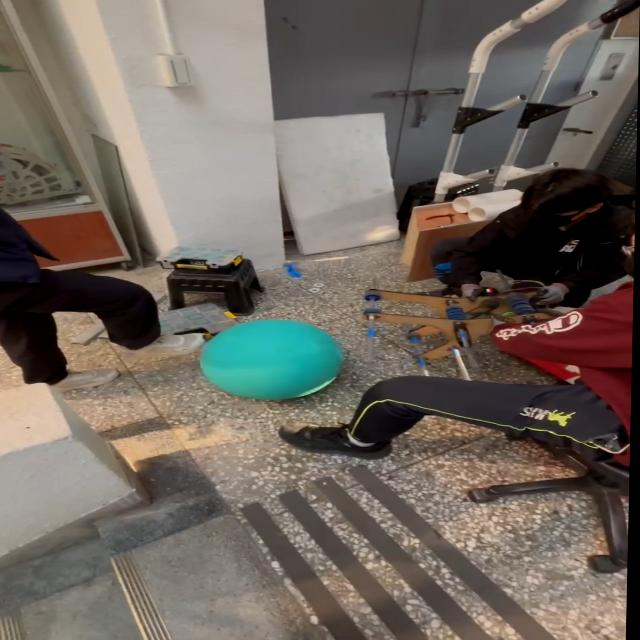ALGAE: (196, 318, 345, 402)
